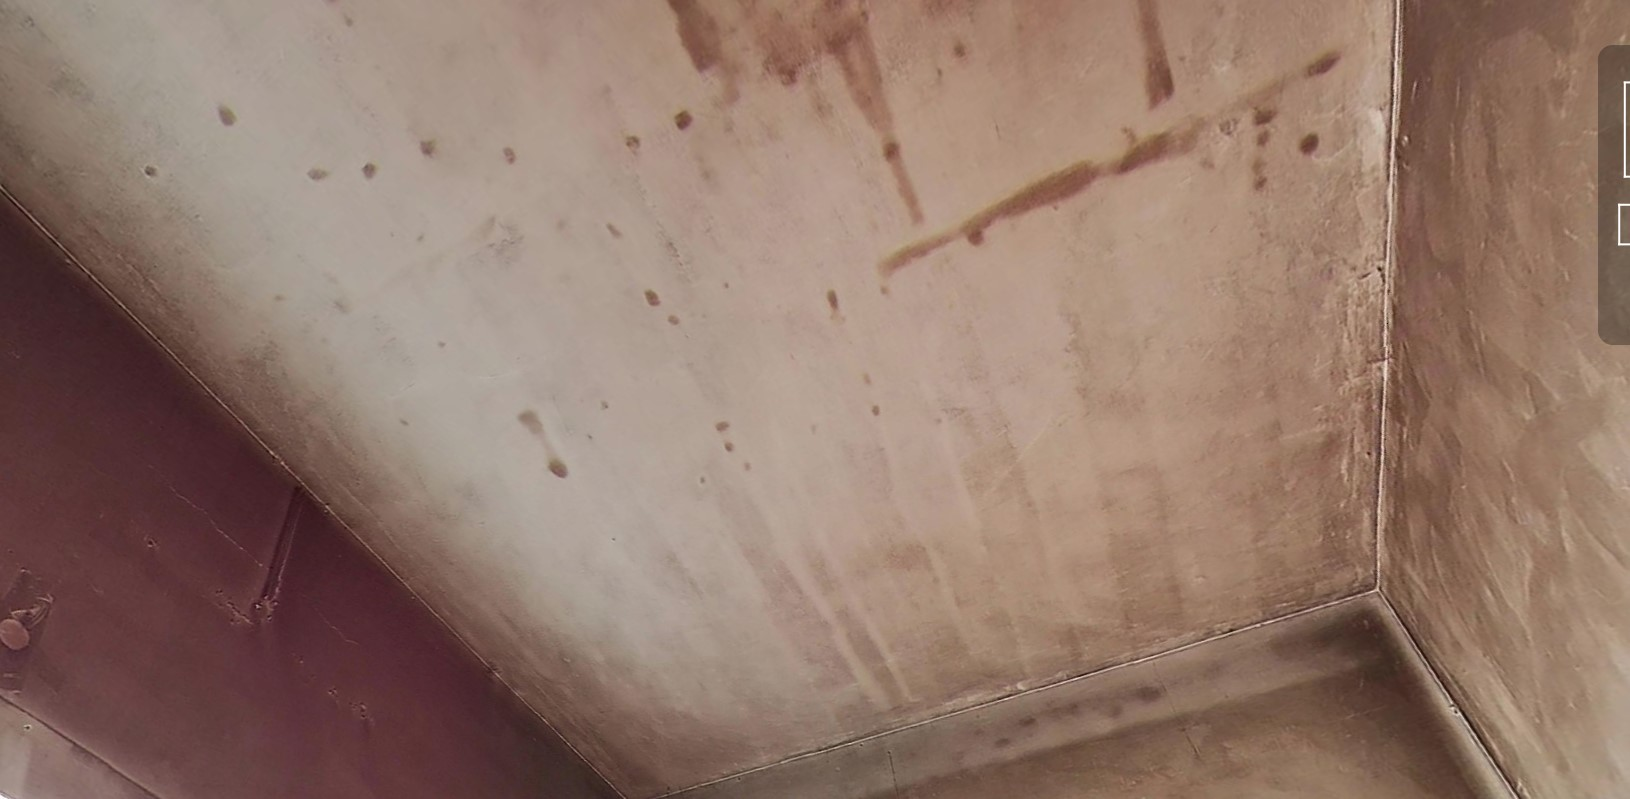Damage_level1: (7, 276, 453, 767), (648, 7, 1368, 303), (1393, 35, 1611, 762), (878, 486, 1391, 668), (897, 686, 1401, 795), (218, 83, 533, 202)
